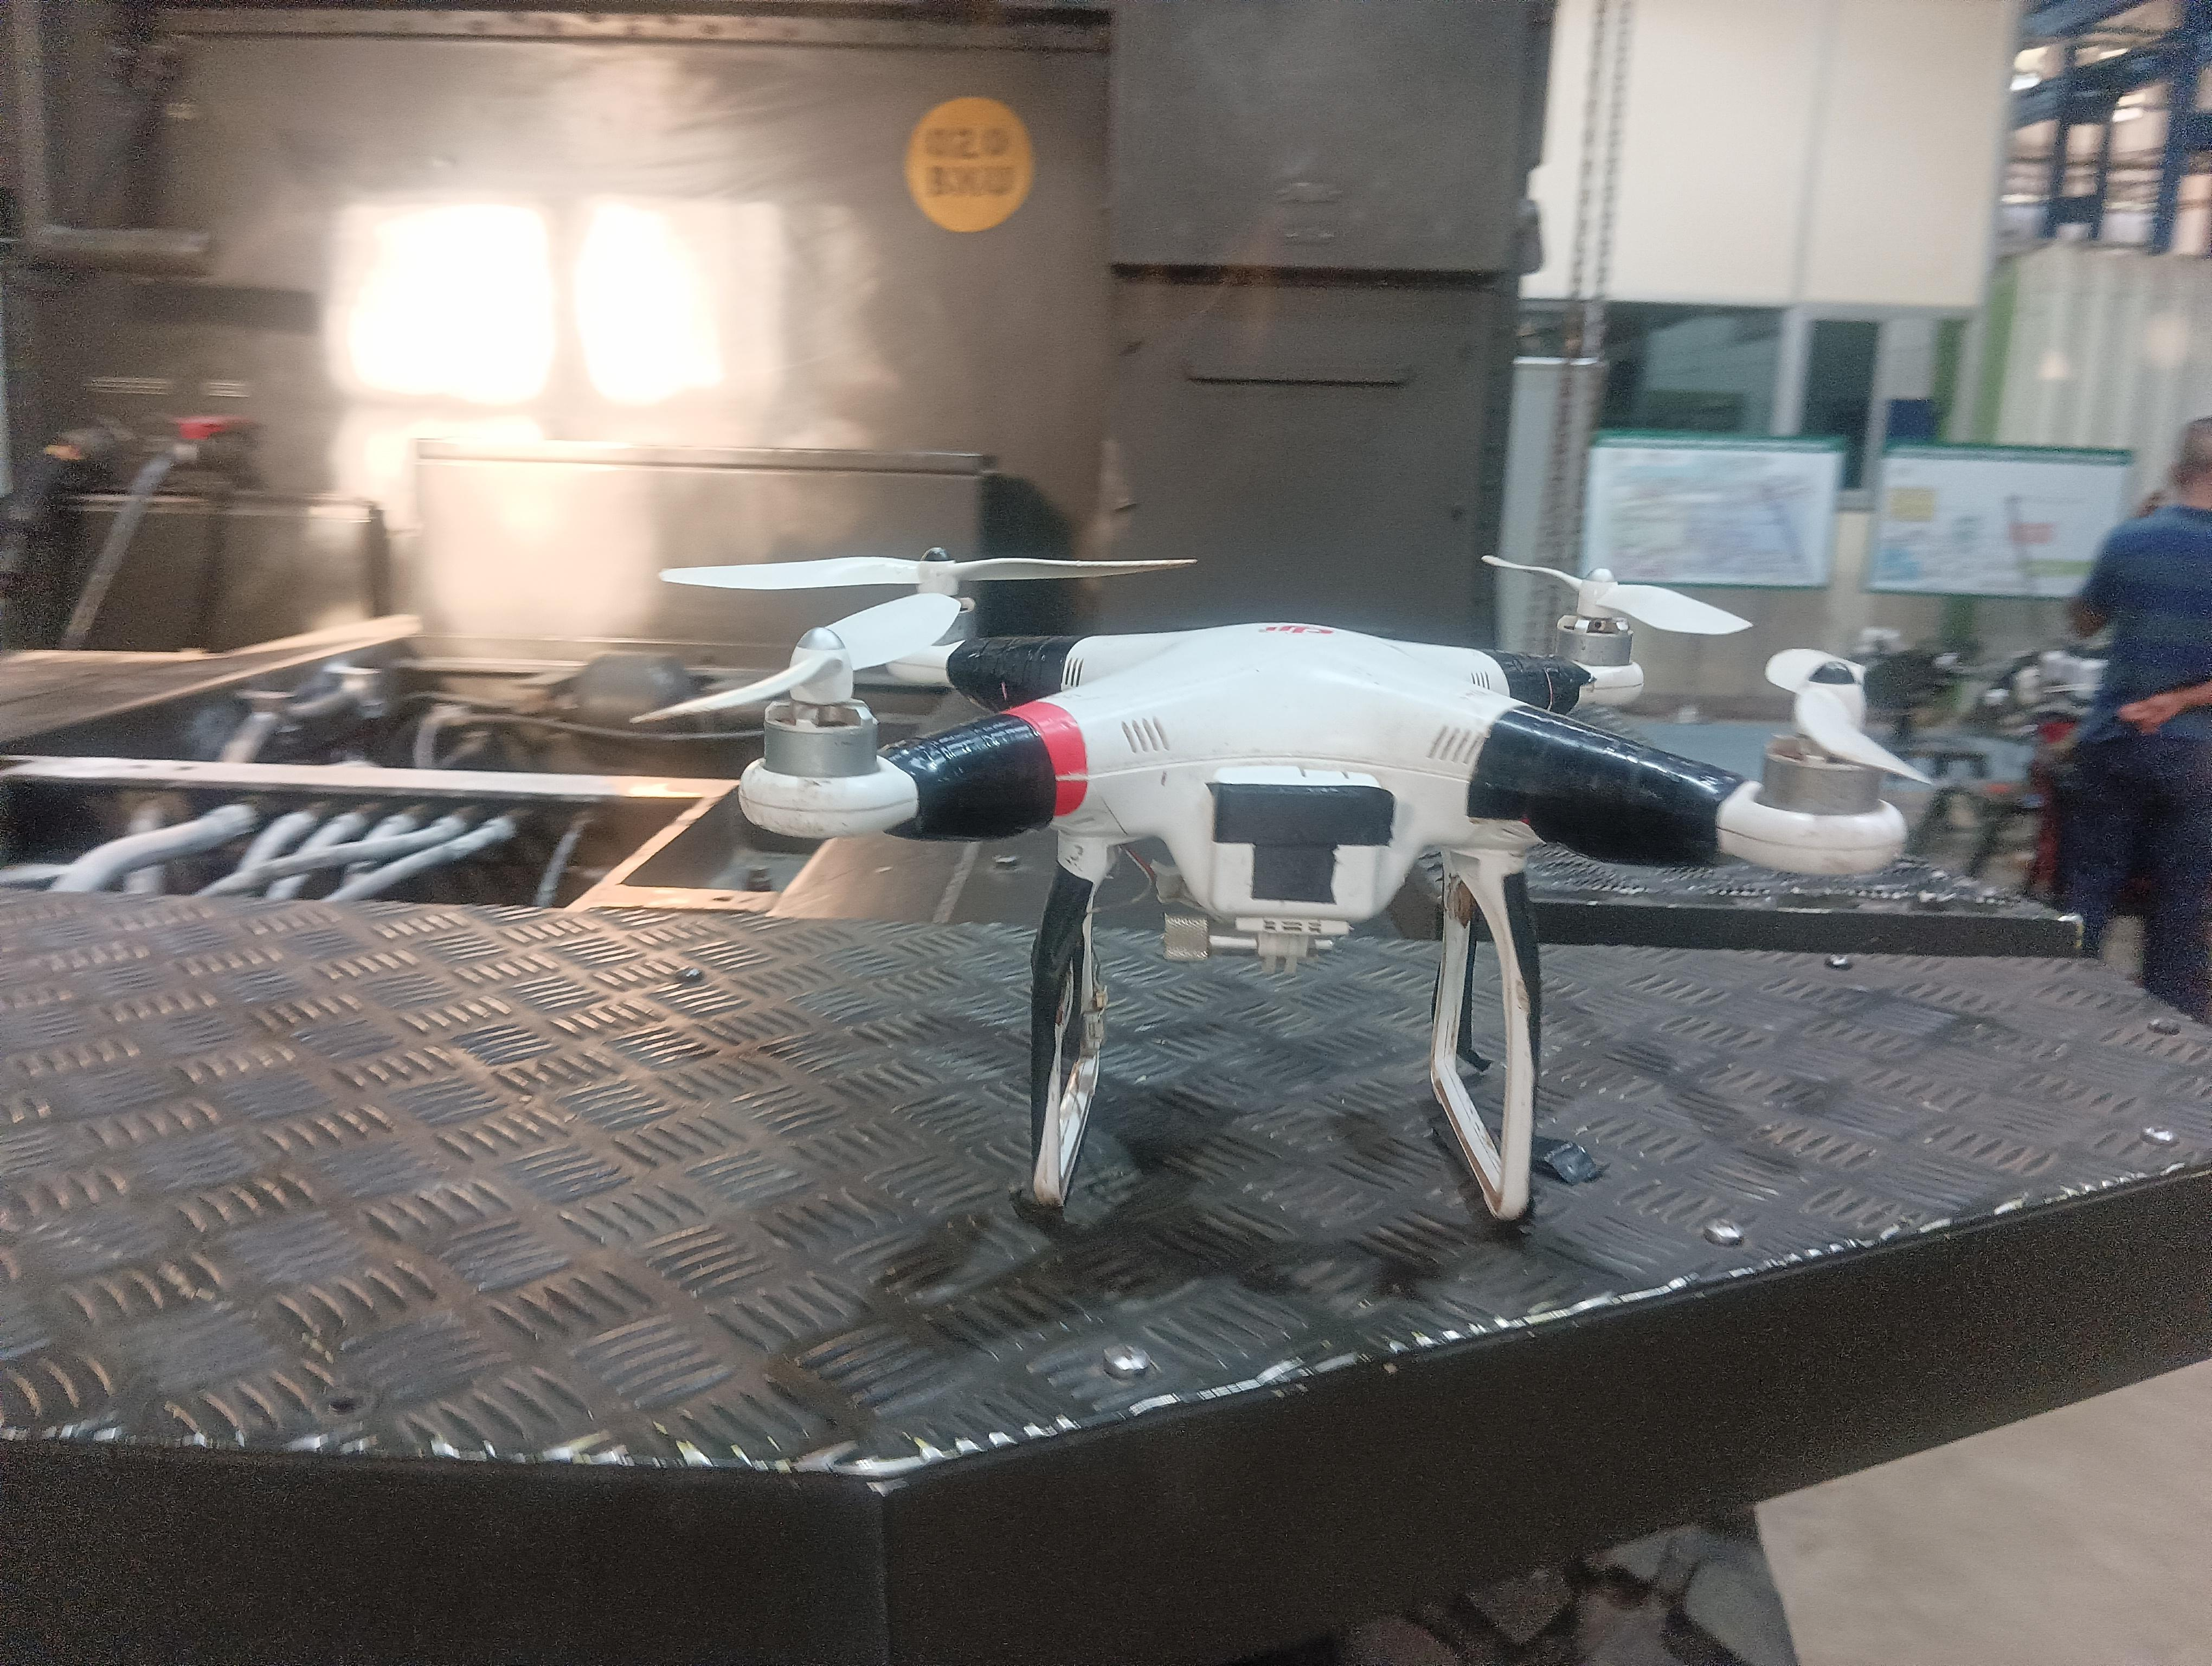drone: (581, 441, 1985, 1267)
